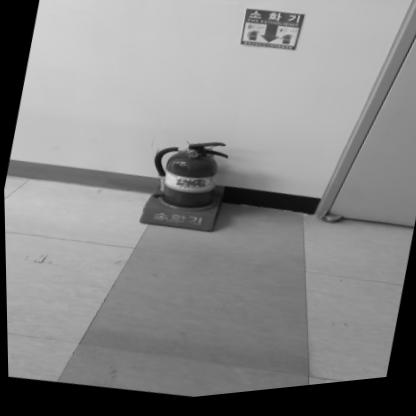FE: (137, 132, 232, 242)
